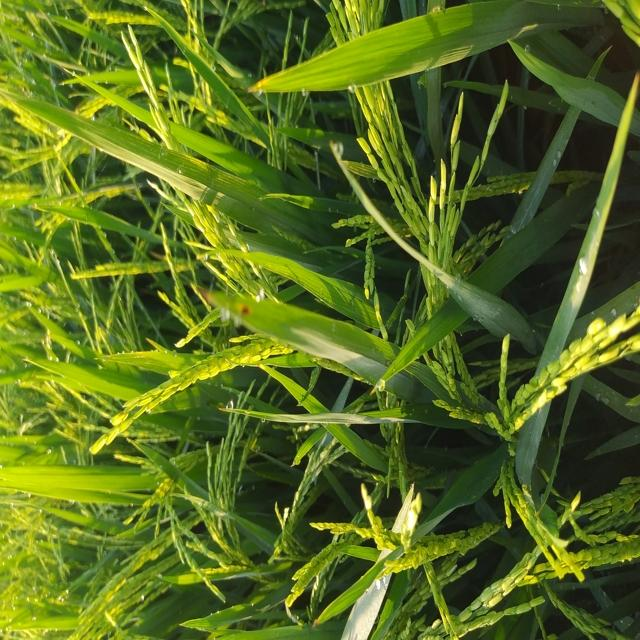insects: (235, 301, 259, 320)
